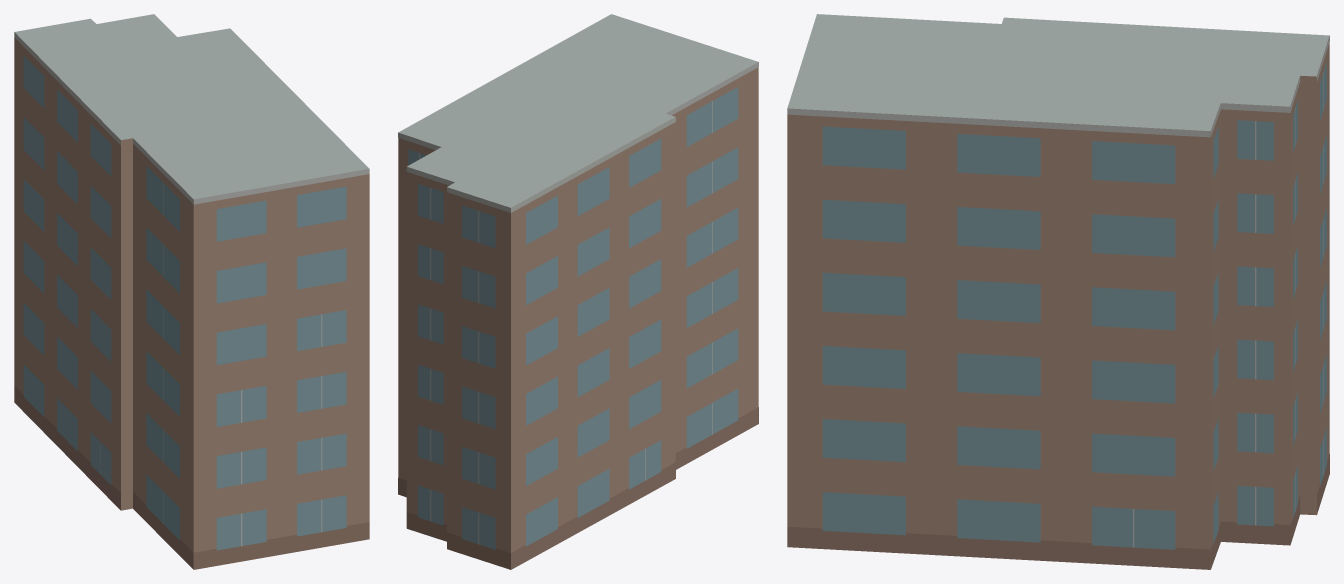
The model's file is survey-upis-32523800.glb.
The picture shows the model from 3 angles, left to right: view 1: azimuth 30°, elevation 25°; view 2: azimuth 150°, elevation 25°; view 3: azimuth 270°, elevation 25°; orthographic projection. The views are drawn at different scales.
Visible parts, largest first — view 1: survey-upis-32523800.tmp; view 2: survey-upis-32523800.tmp; view 3: survey-upis-32523800.tmp.
Part boxes in pixels (<box>): survey-upis-32523800.tmp: <box>14,14,369,569</box>; survey-upis-32523800.tmp: <box>398,14,758,569</box>; survey-upis-32523800.tmp: <box>787,14,1329,569</box>.
Bounding box in the file's own units: 9.92 × 17.3 × 19.4.
